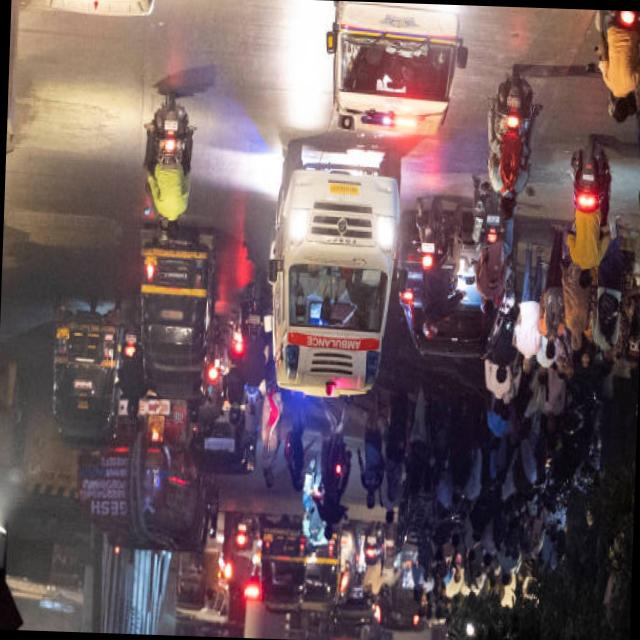ambulance: (274, 148, 403, 397), (287, 324, 383, 363), (319, 376, 343, 393)
